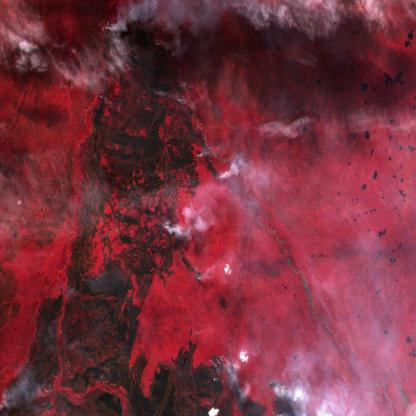fire: (203, 342, 299, 416), (93, 9, 177, 65), (156, 211, 211, 291), (191, 141, 229, 194)
